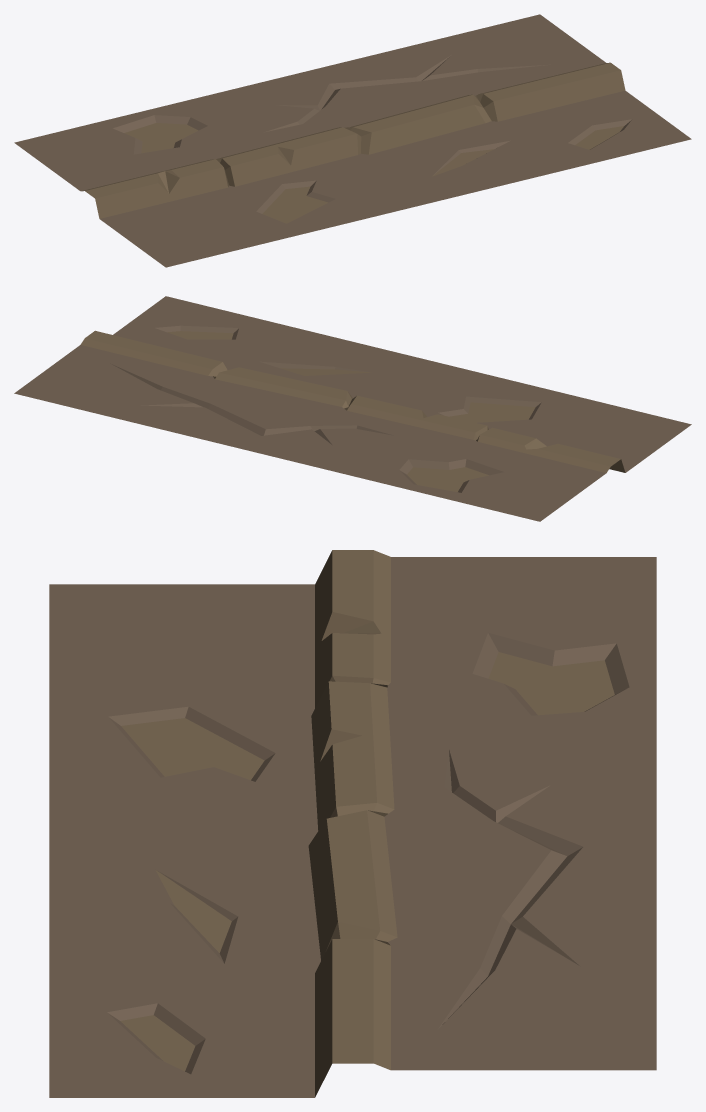
Rendered from LP_PostApoc_LongPavedEdge.fbx.
3 renders of one model, top to bottom at view 1: azimuth 30°, elevation 25°; view 2: azimuth 150°, elevation 25°; view 3: azimuth 270°, elevation 25°, orthographic. The views are drawn at different scales.
Parts seen in each view (by area): view 1: LongPavedEdge; view 2: LongPavedEdge; view 3: LongPavedEdge.
Part boxes in pixels (bbox=[...]): LongPavedEdge: bbox=[14, 14, 691, 267]; LongPavedEdge: bbox=[14, 296, 691, 521]; LongPavedEdge: bbox=[49, 550, 656, 1097].
Bounding box in the file's own units: 800 × 29.75 × 400.
